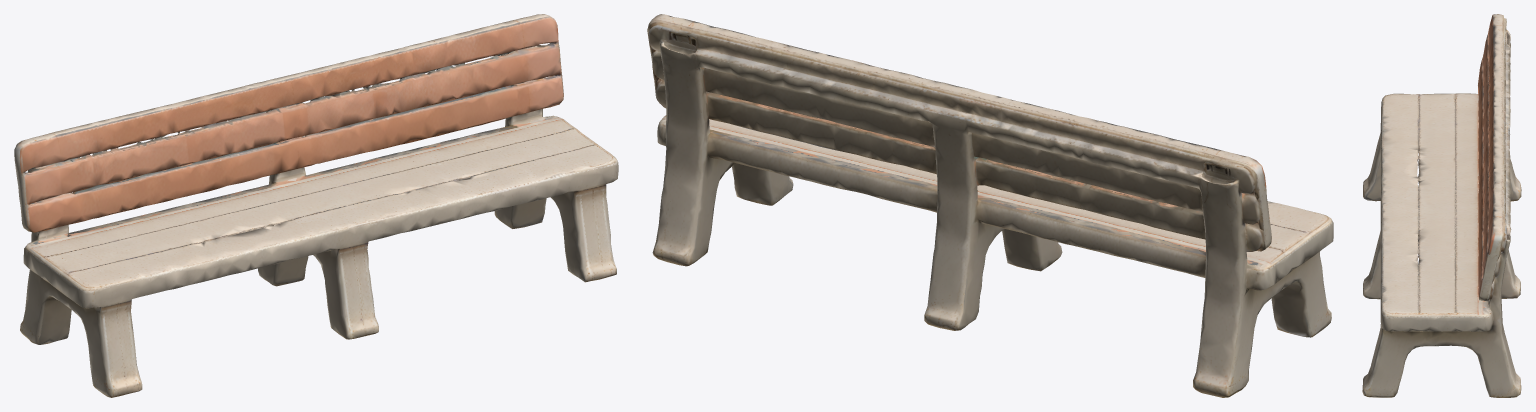
The model's file is VAR_Pool_DeckBench.fbx.
The picture shows the model from 3 angles, left to right: view 1: azimuth 30°, elevation 25°; view 2: azimuth 150°, elevation 25°; view 3: azimuth 270°, elevation 25°; orthographic projection. The views are drawn at different scales.
Visible parts, largest first — view 1: texture_mapping; view 2: texture_mapping; view 3: texture_mapping.
Part boxes in pixels (<box>): texture_mapping: <box>14,14,618,397</box>; texture_mapping: <box>647,14,1333,397</box>; texture_mapping: <box>1362,14,1521,397</box>.
Bounding box in the file's own units: 0.9986 × 0.3017 × 0.3639.
1 material, 1 textured.
